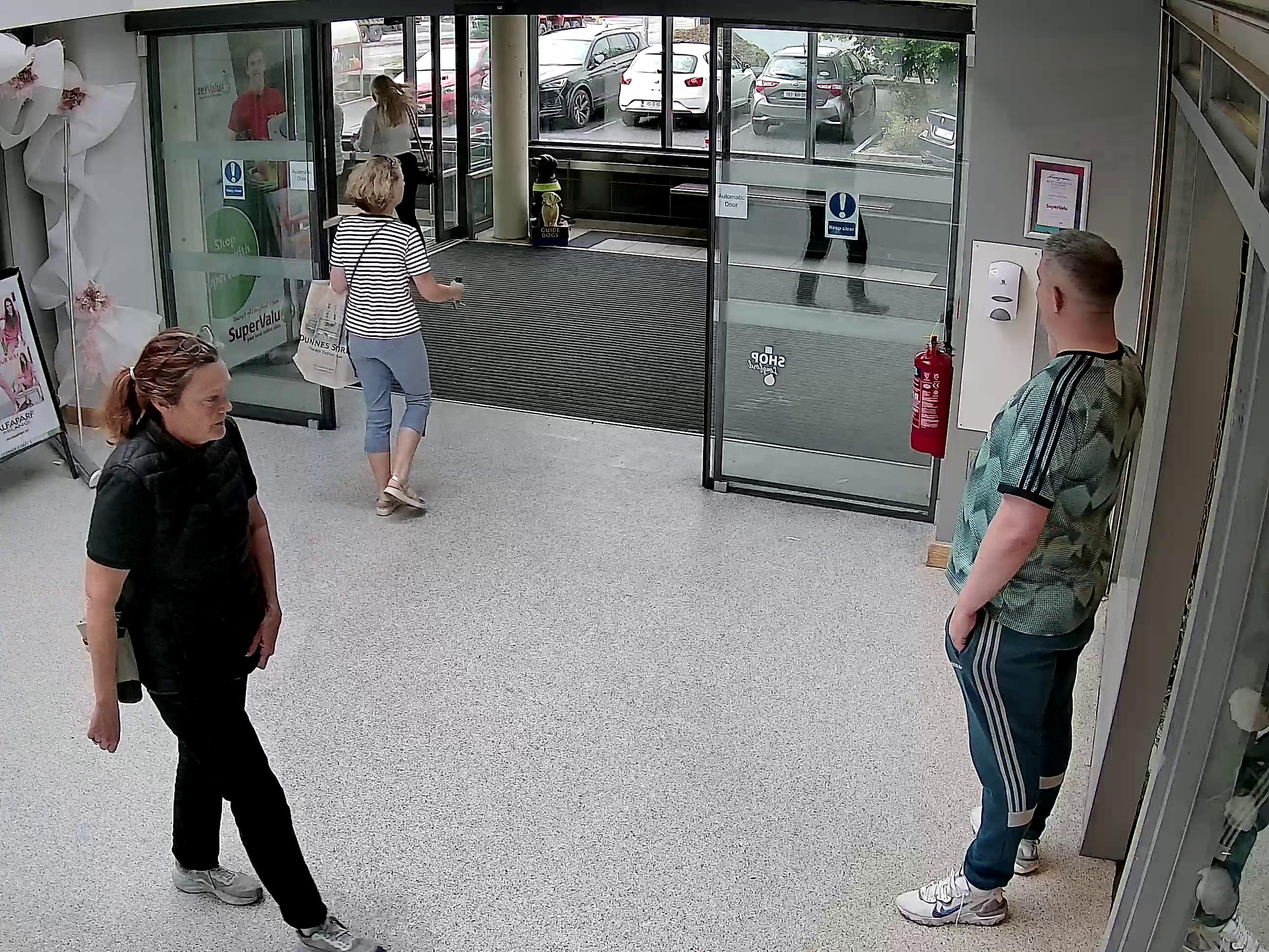filled-shopping-bags: (292, 275, 358, 390)
person: (328, 155, 466, 515)
person-with-filled-shopping-bag-s-: (293, 154, 466, 516)
